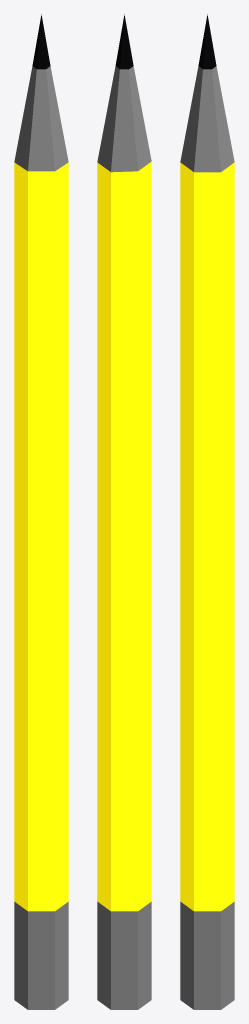
File: pencil.fbx
3 views of the same model, side by side, from view 1: azimuth 90°, elevation 25°; view 2: azimuth 150°, elevation 25°; view 3: azimuth 270°, elevation 25° (orthographic).
Parts seen in each view (by area): view 1: pencil; view 2: pencil; view 3: pencil.
Boxes of the visible parts, left/top/right/bottom form: pencil: left=14, top=14, right=68, bottom=1009; pencil: left=97, top=14, right=151, bottom=1009; pencil: left=180, top=14, right=234, bottom=1009.
Size of the model in its own units: 0.8662 by 20 by 1.
